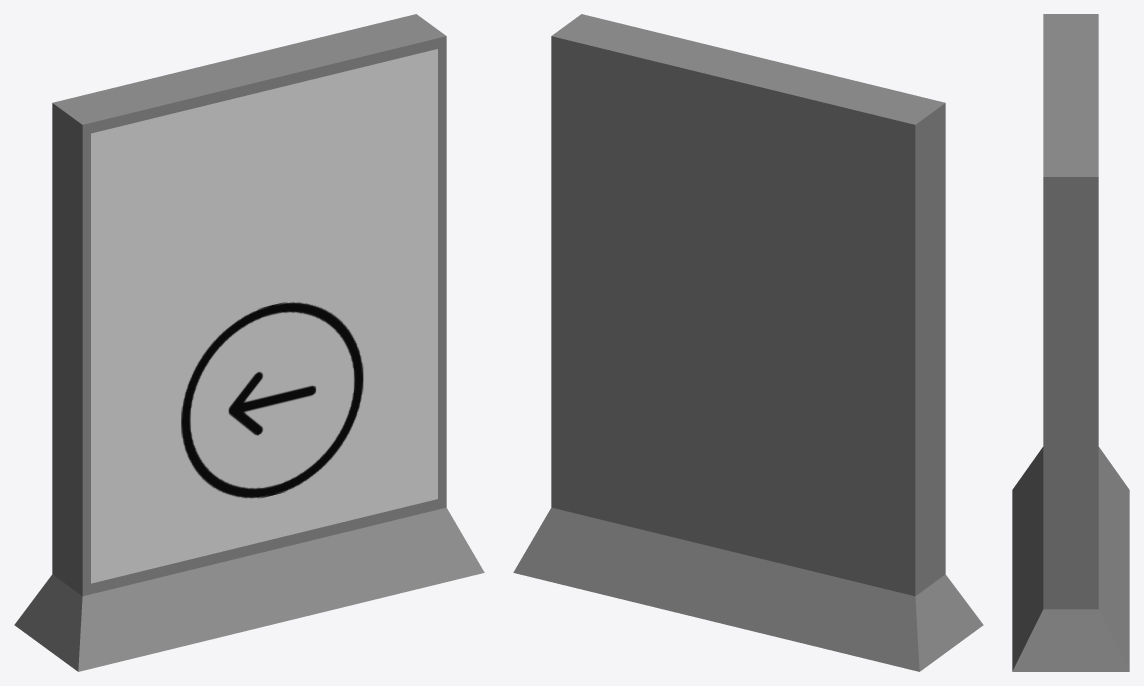
Rendered from info display stand empty.glb.
The picture shows the model from 3 angles, left to right: view 1: azimuth 30°, elevation 25°; view 2: azimuth 150°, elevation 25°; view 3: azimuth 270°, elevation 25°; orthographic projection. The views are drawn at different scales.
Visible parts, largest first — view 1: Cube.001, down-arrow; view 2: Cube.001; view 3: Cube.001.
Boxes of the visible parts, left/top/right/bottom form: Cube.001: left=14, top=14, right=484, bottom=671; down-arrow: left=181, top=302, right=363, bottom=498; Cube.001: left=513, top=14, right=983, bottom=671; Cube.001: left=1012, top=14, right=1129, bottom=671.
Size of the model in its own units: 2.23 by 2.78 by 0.6098.
3 materials, 1 textured.
